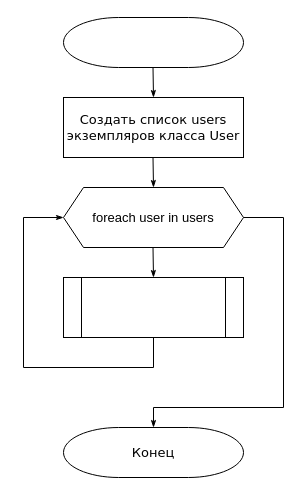
Some shapes in this 308 by 495 pixel diagram are drawn without their labels. Each missing label, with the centre of its shape:
Вызвать метод Greetings(user): the point at 153,307
Начало: the point at 153,42
